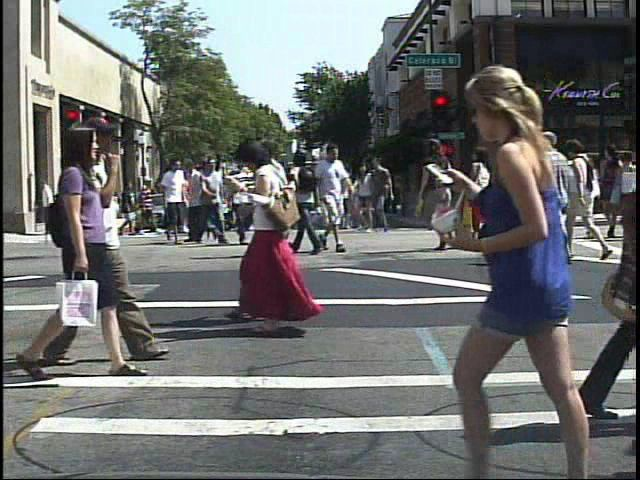person: (418, 60, 609, 480), (9, 121, 144, 379), (228, 134, 317, 333), (87, 108, 148, 371), (258, 130, 303, 332), (562, 132, 611, 277), (534, 120, 574, 269), (248, 136, 292, 263), (414, 133, 458, 260), (462, 143, 507, 256), (291, 150, 336, 261), (316, 142, 358, 252), (193, 154, 230, 249), (224, 150, 258, 247), (575, 147, 607, 243), (159, 157, 194, 243), (137, 174, 158, 242), (71, 182, 91, 232)
